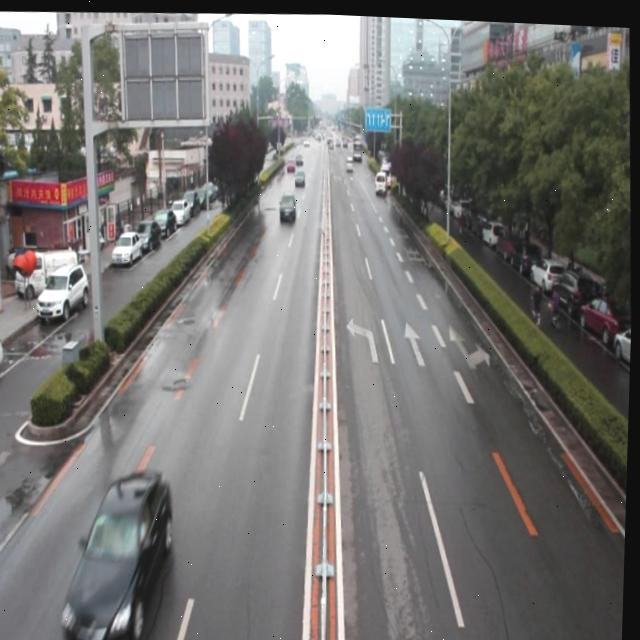car: (57, 461, 182, 640), (278, 187, 299, 219), (294, 163, 306, 184)
truck: (374, 166, 387, 193)
